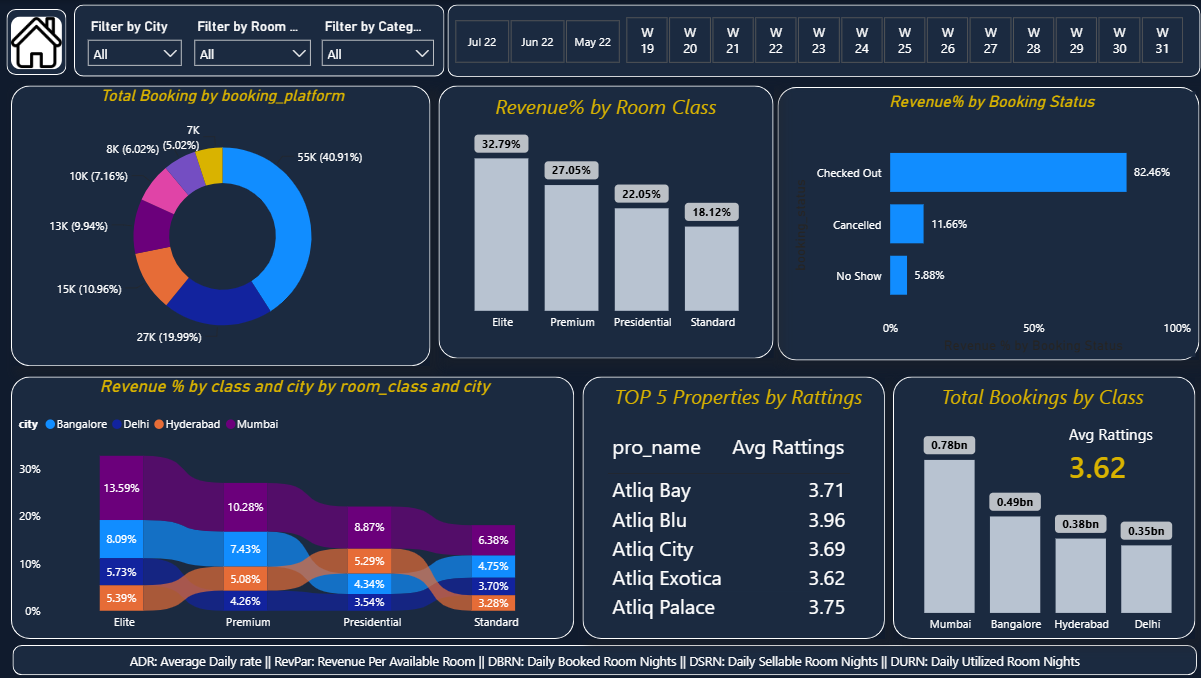

This screenshot's page, from the dashboard's own definition file:
{"tool":"powerbi","page":{"name":"Booking and Revenue Analysis","canvas":[1280,720],"ordinal":2},"visuals":[{"type":"shape","box":[79.5,4.8,392.9,76.3],"z":0},{"type":"slicer","title":"Filter by City","fields":{"Values":["dim_hotels.city"]},"box":[84.3,14.3,119.3,70],"z":1000},{"type":"slicer","title":"Filter by City","fields":{"Values":["dim_room.room_class"]},"box":[197.2,14.3,143.2,55.7],"z":2000},{"type":"slicer","title":"Filter by City","fields":{"Values":["dim_hotels.category"]},"box":[332.4,14.3,138.4,62],"z":3000},{"type":"shape","box":[12.8,91.2,444.8,297.6],"z":4000},{"type":"donutChart","fields":{"Category":["fact_bookings.booking_platform"],"Y":["Key Measures.Total  Booking"]},"box":[20.8,91.2,432,289.6],"z":5000},{"type":"shape","box":[825.6,92.2,447.4,289.9],"z":6000},{"type":"clusteredBarChart","title":"Revenue% by Booking Status","fields":{"Category":["fact_bookings.booking_status"],"Y":["Key Measures.Revenue % by Booking Status"]},"box":[836.8,97.6,432,281.6],"z":7000},{"type":"shape","box":[13.4,399.4,597.1,278.4],"z":8000},{"type":"shape","box":[475.2,4.8,798.4,76.8],"z":9000},{"type":"slicer","title":"Filter by City","fields":{"Values":["dim_date.week no"]},"box":[640,11.2,640,62.4],"z":10000},{"type":"slicer","title":"Filter by City","fields":{"Values":["dim_date.mmm yy"]},"box":[457.6,14.4,224,59.2],"z":11000},{"type":"shape","box":[14.4,683.2,1256,32],"z":12000},{"type":"shape","box":[465.6,91.2,355.2,289.6],"z":13000},{"type":"lineStackedColumnComboChart","fields":{"Category":["dim_room.room_class"],"Y":["Key Measures.Revenue% by Room Class"]},"box":[468.8,126.4,352,233.6],"z":14000},{"type":"textbox","box":[466.6,92.2,355.2,48],"z":15000},{"type":"ribbonChart","fields":{"Category":["dim_room.room_class"],"Series":["dim_hotels.city"],"Y":["Key Measures.Revenue % by class and city"]},"box":[15.4,399.4,595.2,278.4],"z":16000},{"type":"shape","box":[618.2,399.4,320.6,278.4],"z":17000},{"type":"tableEx","fields":{"Values":["dim_hotels.property_name","Key Measures.Avg Rattings"]},"box":[639.4,451.2,309.1,222.7],"z":18000},{"type":"shape","box":[948.5,399.4,320.6,278.4],"z":19000},{"type":"lineStackedColumnComboChart","fields":{"Category":["dim_hotels.city"],"Y":["Sum(fact_bookings.revenue_generated)"]},"box":[948.5,445.4,330.2,234.2],"z":20000},{"type":"textbox","box":[960,399.4,291.8,46.1],"z":21000},{"type":"textbox","box":[618.2,399.4,330.2,46.1],"z":22000},{"type":"cardVisual","fields":{"Data":["Key Measures.Avg Rattings"]},"box":[1105.9,435.8,163.2,92.2],"z":23000},{"type":"shape","box":[8,9.5,63.6,70],"z":24000},{"type":"image","box":[12.7,17.5,54.1,55.7],"z":25000}]}

Visuals, with their boxes in screenshot pixels (x1, y1, x2, y2), scaled from the page's 1280x720 canvas onto the 1201x678 screenshot:
shape: bbox=[75, 5, 443, 76]
"Filter by City" slicer: bbox=[79, 13, 191, 79]
"Filter by City" slicer: bbox=[185, 13, 319, 66]
"Filter by City" slicer: bbox=[312, 13, 442, 72]
shape: bbox=[12, 86, 429, 366]
donutChart - fact_bookings.booking_platform x Key Measures.Total  Booking: bbox=[20, 86, 425, 359]
shape: bbox=[775, 87, 1194, 360]
"Revenue% by Booking Status" clusteredBarChart: bbox=[785, 92, 1190, 357]
shape: bbox=[13, 376, 573, 638]
shape: bbox=[446, 5, 1195, 77]
"Filter by City" slicer: bbox=[600, 11, 1200, 69]
"Filter by City" slicer: bbox=[429, 14, 640, 69]
shape: bbox=[14, 643, 1192, 673]
shape: bbox=[437, 86, 770, 359]
lineStackedColumnComboChart - dim_room.room_class x Key Measures.Revenue% by Room Class: bbox=[440, 119, 770, 339]
textbox: bbox=[438, 87, 771, 132]
ribbonChart - dim_room.room_class x dim_hotels.city: bbox=[14, 376, 573, 638]
shape: bbox=[580, 376, 881, 638]
tableEx - dim_hotels.property_name x Key Measures.Avg Rattings: bbox=[600, 425, 890, 635]
shape: bbox=[890, 376, 1191, 638]
lineStackedColumnComboChart - dim_hotels.city x Sum(fact_bookings.revenue_generated): bbox=[890, 419, 1200, 640]
textbox: bbox=[901, 376, 1175, 420]
textbox: bbox=[580, 376, 890, 420]
cardVisual - Key Measures.Avg Rattings: bbox=[1038, 410, 1191, 497]
shape: bbox=[8, 9, 67, 75]
image: bbox=[12, 16, 63, 69]
